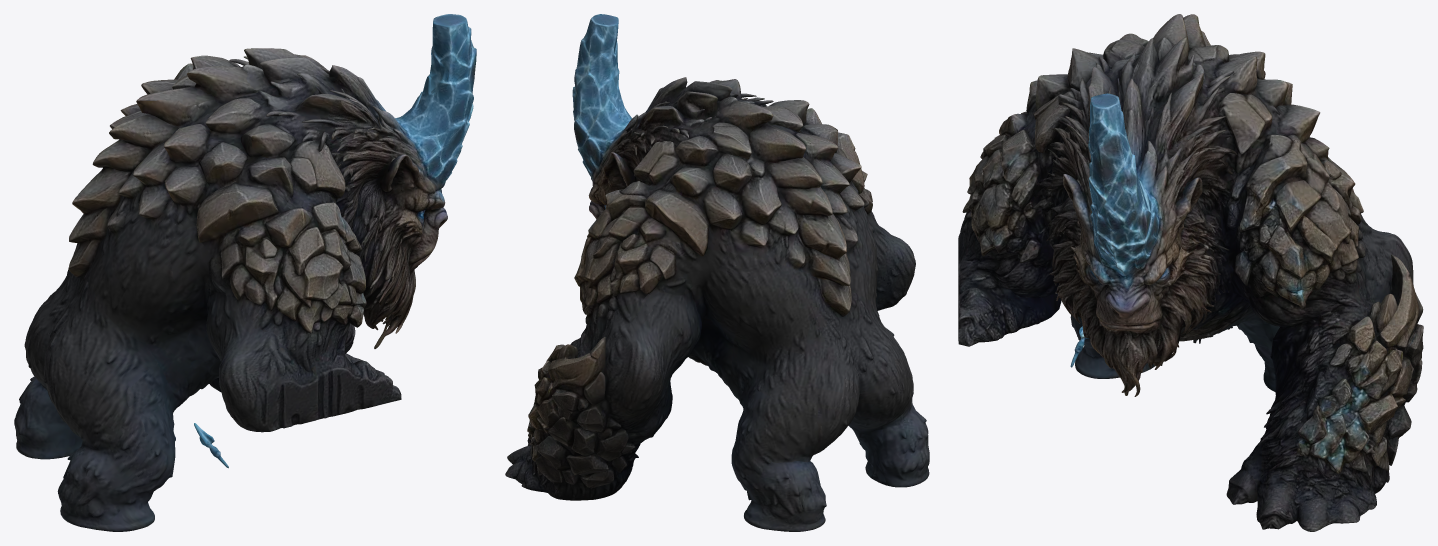
Rendered from mugosh-tripo-s1.glb.
3 renders of one model, left to right at view 1: azimuth 30°, elevation 25°; view 2: azimuth 150°, elevation 25°; view 3: azimuth 270°, elevation 25°, orthographic. The views are drawn at different scales.
Visible parts, largest first — view 1: tripo_node_bbefd4a9-bee7-4855-98f1-8b0dcc4b0674; view 2: tripo_node_bbefd4a9-bee7-4855-98f1-8b0dcc4b0674; view 3: tripo_node_bbefd4a9-bee7-4855-98f1-8b0dcc4b0674.
Boxes of the visible parts, x1=… form: tripo_node_bbefd4a9-bee7-4855-98f1-8b0dcc4b0674: x1=14, y1=14, x2=476, y2=531; tripo_node_bbefd4a9-bee7-4855-98f1-8b0dcc4b0674: x1=505, y1=14, x2=929, y2=531; tripo_node_bbefd4a9-bee7-4855-98f1-8b0dcc4b0674: x1=958, y1=14, x2=1423, y2=531.
Size of the model in its own units: 0.9967 by 0.9998 by 0.9859.
Materials: 1 (1 with a texture image).
